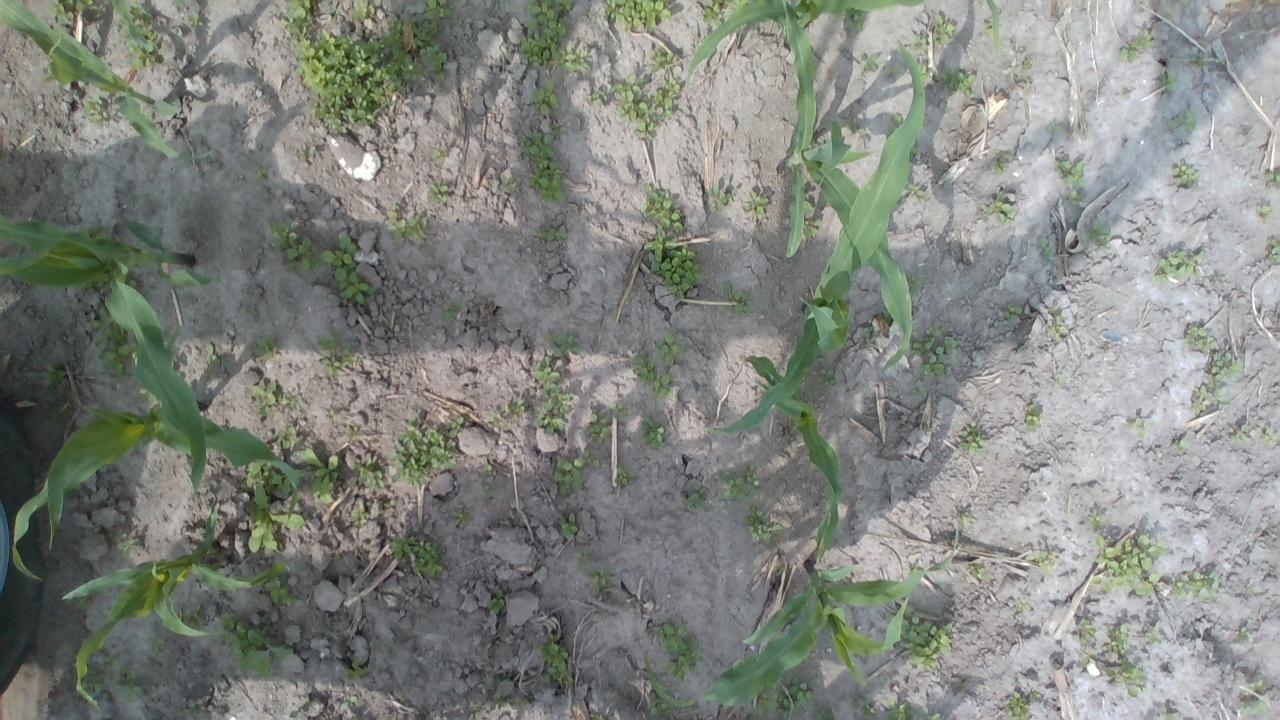Maize: (706, 44, 926, 442), (0, 213, 218, 490), (640, 524, 960, 709), (10, 400, 301, 582), (778, 0, 914, 372), (62, 502, 288, 708), (0, 0, 209, 162), (684, 0, 1009, 86), (744, 349, 842, 568)
Weeds: (292, 16, 419, 132), (220, 610, 292, 681), (390, 417, 463, 487), (1094, 530, 1164, 598), (642, 224, 703, 302), (246, 485, 304, 554), (518, 126, 568, 204), (320, 234, 377, 302), (519, 0, 573, 67), (899, 606, 954, 671), (90, 307, 140, 378), (532, 357, 576, 433), (411, 0, 450, 81), (270, 213, 322, 270), (908, 322, 957, 382), (656, 620, 704, 680), (121, 0, 161, 69), (634, 78, 679, 139), (294, 447, 341, 504), (602, 0, 671, 35), (630, 351, 674, 400), (538, 633, 574, 686), (318, 327, 356, 376), (644, 185, 682, 233), (1105, 654, 1147, 697), (1154, 248, 1204, 284), (778, 674, 814, 720), (741, 506, 784, 544), (387, 202, 428, 241), (246, 462, 294, 494), (722, 462, 762, 500), (612, 72, 642, 120), (1192, 383, 1232, 416), (1171, 571, 1218, 599), (412, 540, 444, 578), (654, 328, 686, 366), (264, 570, 296, 606), (554, 456, 585, 492), (110, 669, 146, 700), (1120, 30, 1153, 63), (1210, 352, 1244, 384), (559, 43, 591, 76), (983, 191, 1014, 225), (720, 286, 755, 316), (282, 0, 310, 37), (941, 69, 978, 97), (545, 331, 579, 361), (960, 421, 990, 455), (1024, 548, 1060, 576), (1008, 689, 1040, 720), (532, 80, 561, 114), (250, 383, 278, 416), (358, 454, 384, 489), (160, 324, 187, 356), (531, 222, 570, 244), (640, 415, 666, 448), (1184, 326, 1215, 353), (801, 194, 819, 240), (932, 13, 956, 47), (1058, 158, 1086, 187), (755, 682, 778, 717), (183, 598, 208, 630), (390, 532, 418, 560), (82, 94, 110, 121), (1022, 396, 1044, 430), (1172, 162, 1200, 188), (588, 412, 612, 442), (1106, 623, 1128, 655), (743, 191, 770, 217), (683, 481, 708, 509), (1130, 414, 1156, 440), (344, 658, 370, 684), (709, 184, 735, 210), (1047, 311, 1069, 341), (50, 0, 76, 25), (1088, 222, 1113, 248), (117, 530, 140, 558), (841, 7, 866, 32), (1237, 698, 1268, 718), (884, 697, 910, 720), (1076, 615, 1096, 644), (558, 511, 578, 540), (650, 47, 674, 71), (252, 334, 276, 358), (428, 176, 448, 204), (86, 666, 108, 690), (44, 363, 68, 385), (278, 422, 298, 448), (702, 0, 722, 25), (439, 302, 464, 322), (646, 698, 673, 716), (351, 0, 376, 19), (1159, 68, 1177, 94), (1168, 114, 1197, 130), (1142, 625, 1164, 646), (504, 398, 529, 416), (351, 502, 368, 528), (449, 509, 472, 528), (282, 391, 305, 410), (77, 0, 102, 17), (138, 384, 158, 405), (498, 174, 518, 195), (726, 0, 752, 16), (488, 591, 506, 614), (901, 182, 924, 200), (591, 568, 608, 592), (1230, 422, 1250, 442), (1260, 426, 1280, 446), (152, 638, 172, 658), (1266, 238, 1280, 266), (206, 344, 222, 367), (904, 273, 926, 289), (582, 448, 601, 466), (339, 692, 358, 710), (816, 369, 836, 386), (862, 324, 879, 344), (861, 52, 878, 72), (576, 548, 592, 569), (1006, 303, 1024, 320), (1254, 205, 1272, 222), (888, 112, 903, 132), (186, 9, 202, 27), (486, 408, 502, 426), (616, 468, 632, 486), (488, 692, 504, 710), (862, 702, 878, 720), (1079, 651, 1099, 665), (1245, 680, 1265, 694), (608, 404, 628, 418), (914, 34, 930, 51), (1088, 512, 1104, 528), (590, 91, 608, 105), (254, 168, 272, 182), (990, 158, 1004, 176), (816, 707, 834, 720), (80, 223, 104, 232), (1040, 238, 1052, 256), (306, 145, 320, 160), (1172, 439, 1188, 452), (1267, 170, 1280, 186), (956, 512, 970, 526), (432, 146, 448, 158), (105, 654, 121, 666), (1017, 598, 1031, 611), (484, 487, 498, 499), (1070, 190, 1081, 205), (126, 278, 139, 290), (1051, 374, 1066, 384), (886, 65, 898, 77), (911, 386, 925, 396), (1195, 56, 1209, 66), (923, 712, 940, 720), (173, 0, 188, 9), (1238, 627, 1250, 638), (384, 499, 396, 509), (588, 713, 604, 720), (482, 464, 493, 474), (977, 568, 988, 578), (1246, 584, 1256, 594), (906, 566, 918, 574), (807, 400, 818, 408), (302, 696, 312, 704), (1024, 60, 1032, 70), (983, 23, 991, 31)
